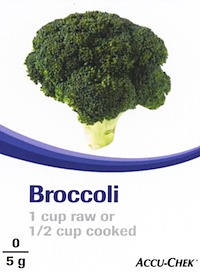broccoli: (23, 11, 175, 131)
